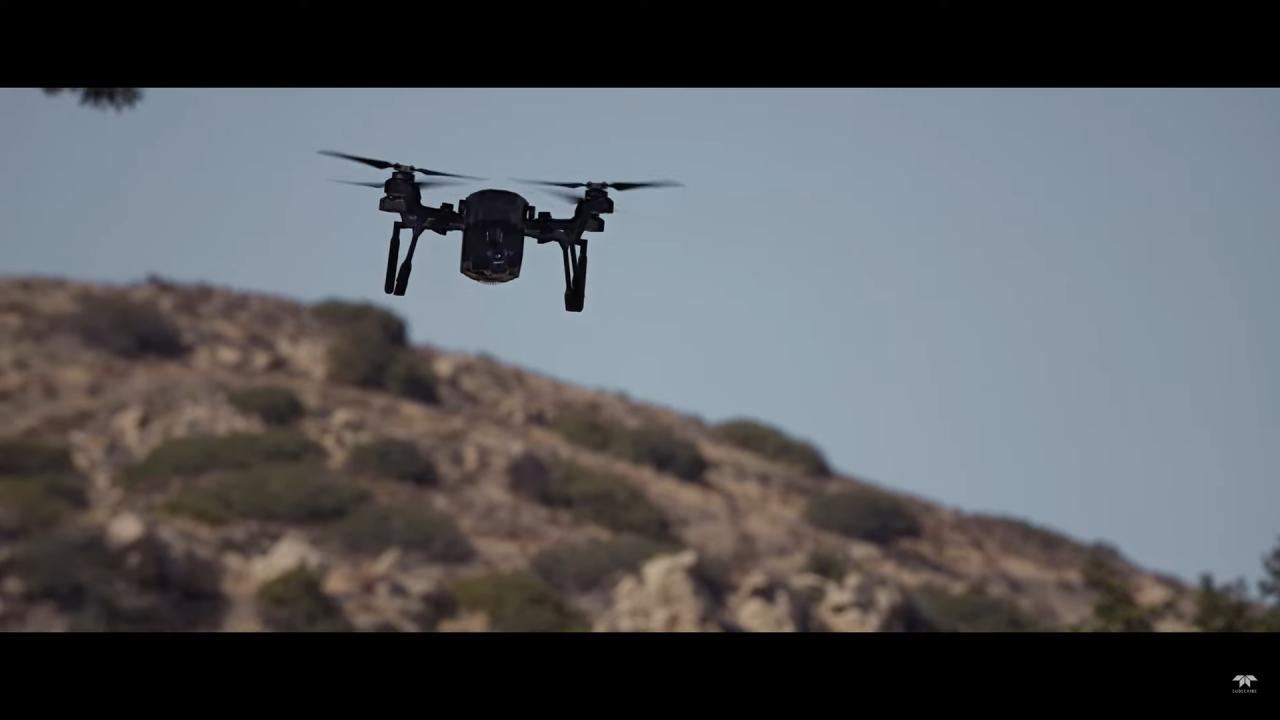Drone: (295, 128, 705, 328)
